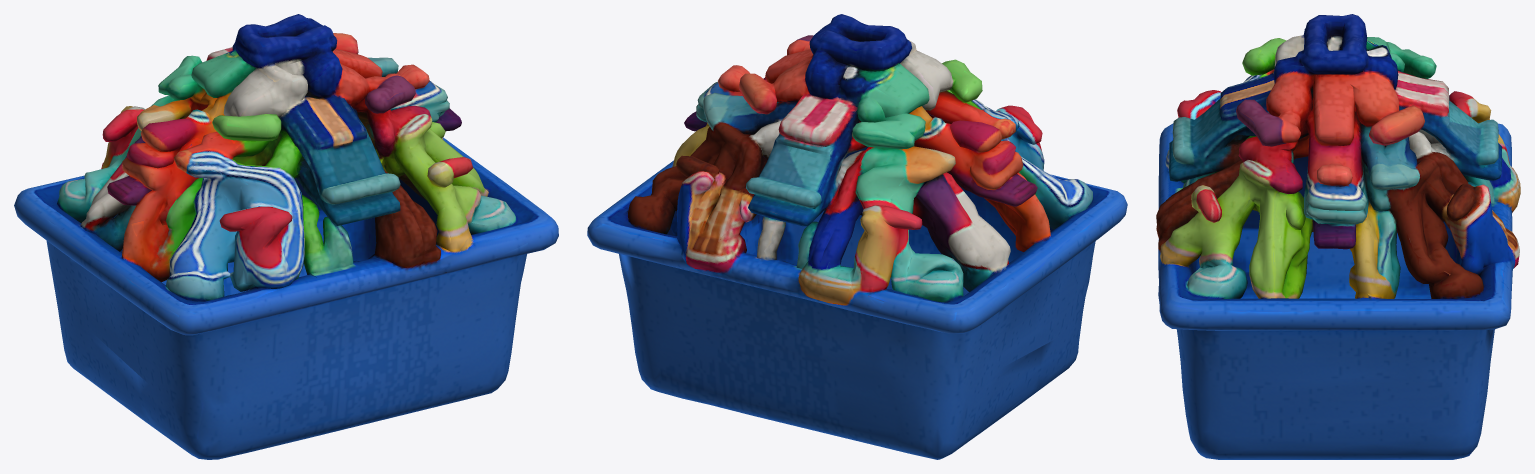
The model's file is koszyk.obj.
3 views of the same model, side by side, from view 1: azimuth 30°, elevation 25°; view 2: azimuth 150°, elevation 25°; view 3: azimuth 270°, elevation 25° (orthographic).
Visible parts, largest first — view 1: Bodygeom1; view 2: Bodygeom1; view 3: Bodygeom1.
Boxes of the visible parts, x1,y1,x2,y2 form: Bodygeom1: [14, 14, 558, 459]; Bodygeom1: [587, 14, 1127, 459]; Bodygeom1: [1156, 14, 1520, 459].
Size of the model in its own units: 5.72 by 5 by 4.57.
Materials: 1 (1 with a texture image).
